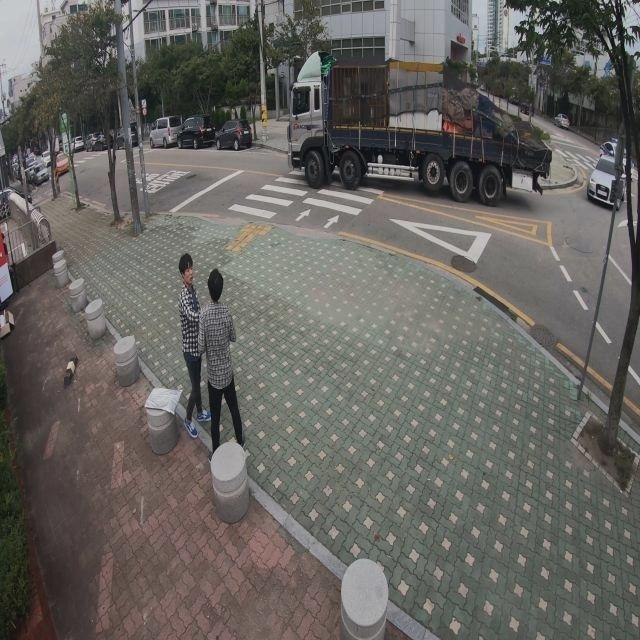fight: (175, 252, 246, 452)
